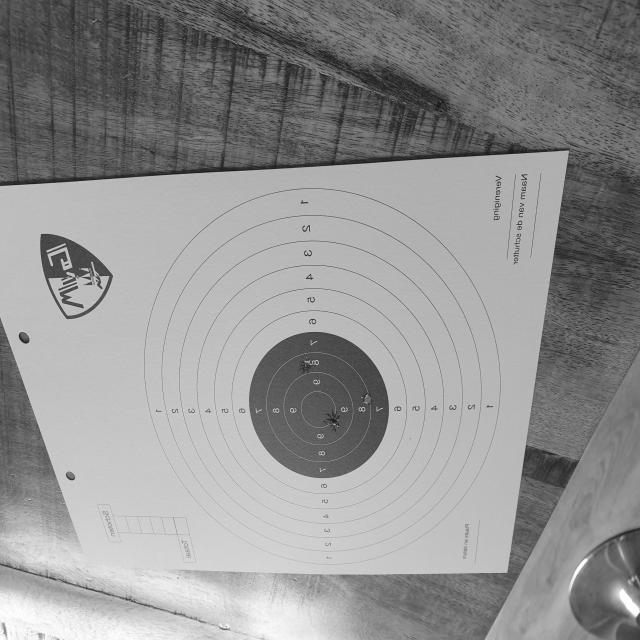10: (323, 411, 342, 432)
8: (360, 392, 373, 406)
9: (298, 356, 315, 374)
Target: (143, 187, 502, 569)
black_contour: (249, 332, 389, 479)
